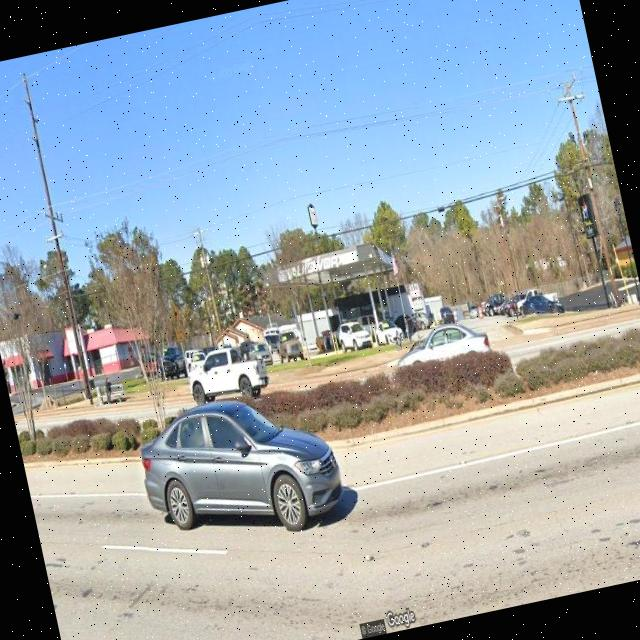seating: (102, 382, 126, 406)
trash_can: (95, 385, 104, 406)
